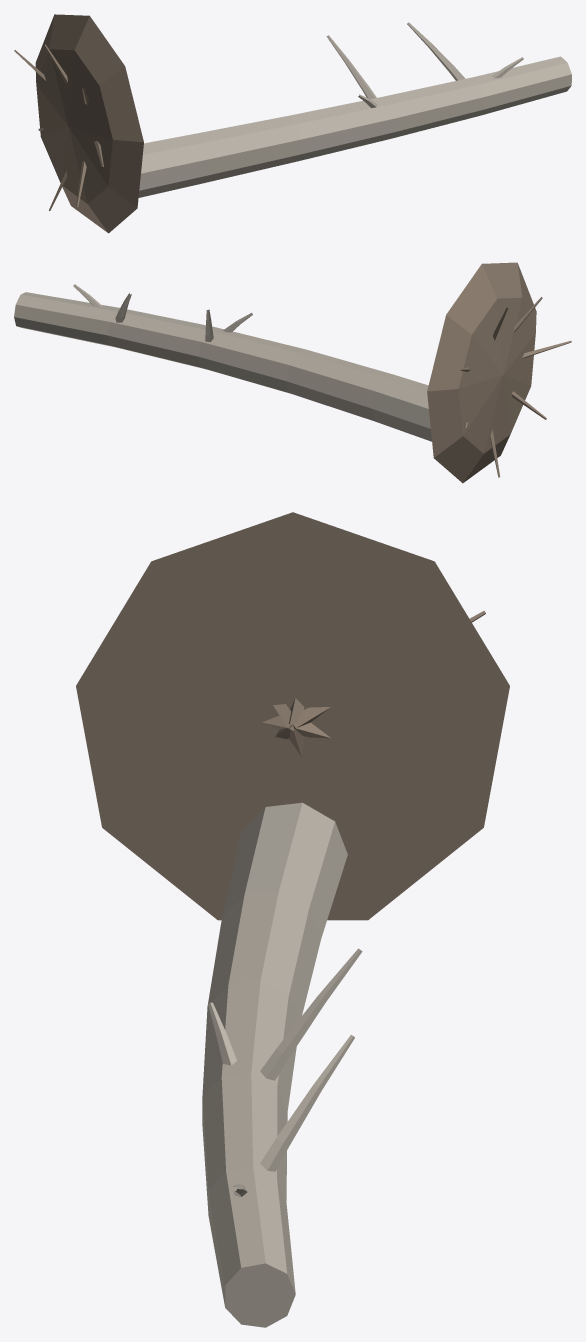
The model's file is temperate-forest-ecology-fallen-oak-trunk-075cb5b3__3823.glb.
3 renders of one model, top to bottom at view 1: azimuth 30°, elevation 25°; view 2: azimuth 150°, elevation 25°; view 3: azimuth 270°, elevation 25°, orthographic. The views are drawn at different scales.
Parts seen in each view (by area): view 1: fallen-oak-trunk; view 2: fallen-oak-trunk; view 3: fallen-oak-trunk.
Part boxes in pixels (left/top/right/bottom): fallen-oak-trunk: left=14, top=14, right=571, bottom=233; fallen-oak-trunk: left=14, top=262, right=571, bottom=483; fallen-oak-trunk: left=76, top=512, right=509, bottom=1327.
Bounding box in the file's own units: 10.54 × 4.07 × 3.93.
